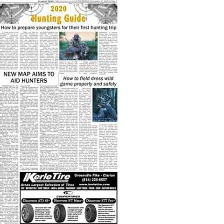news_paper: (0, 0, 118, 224)
